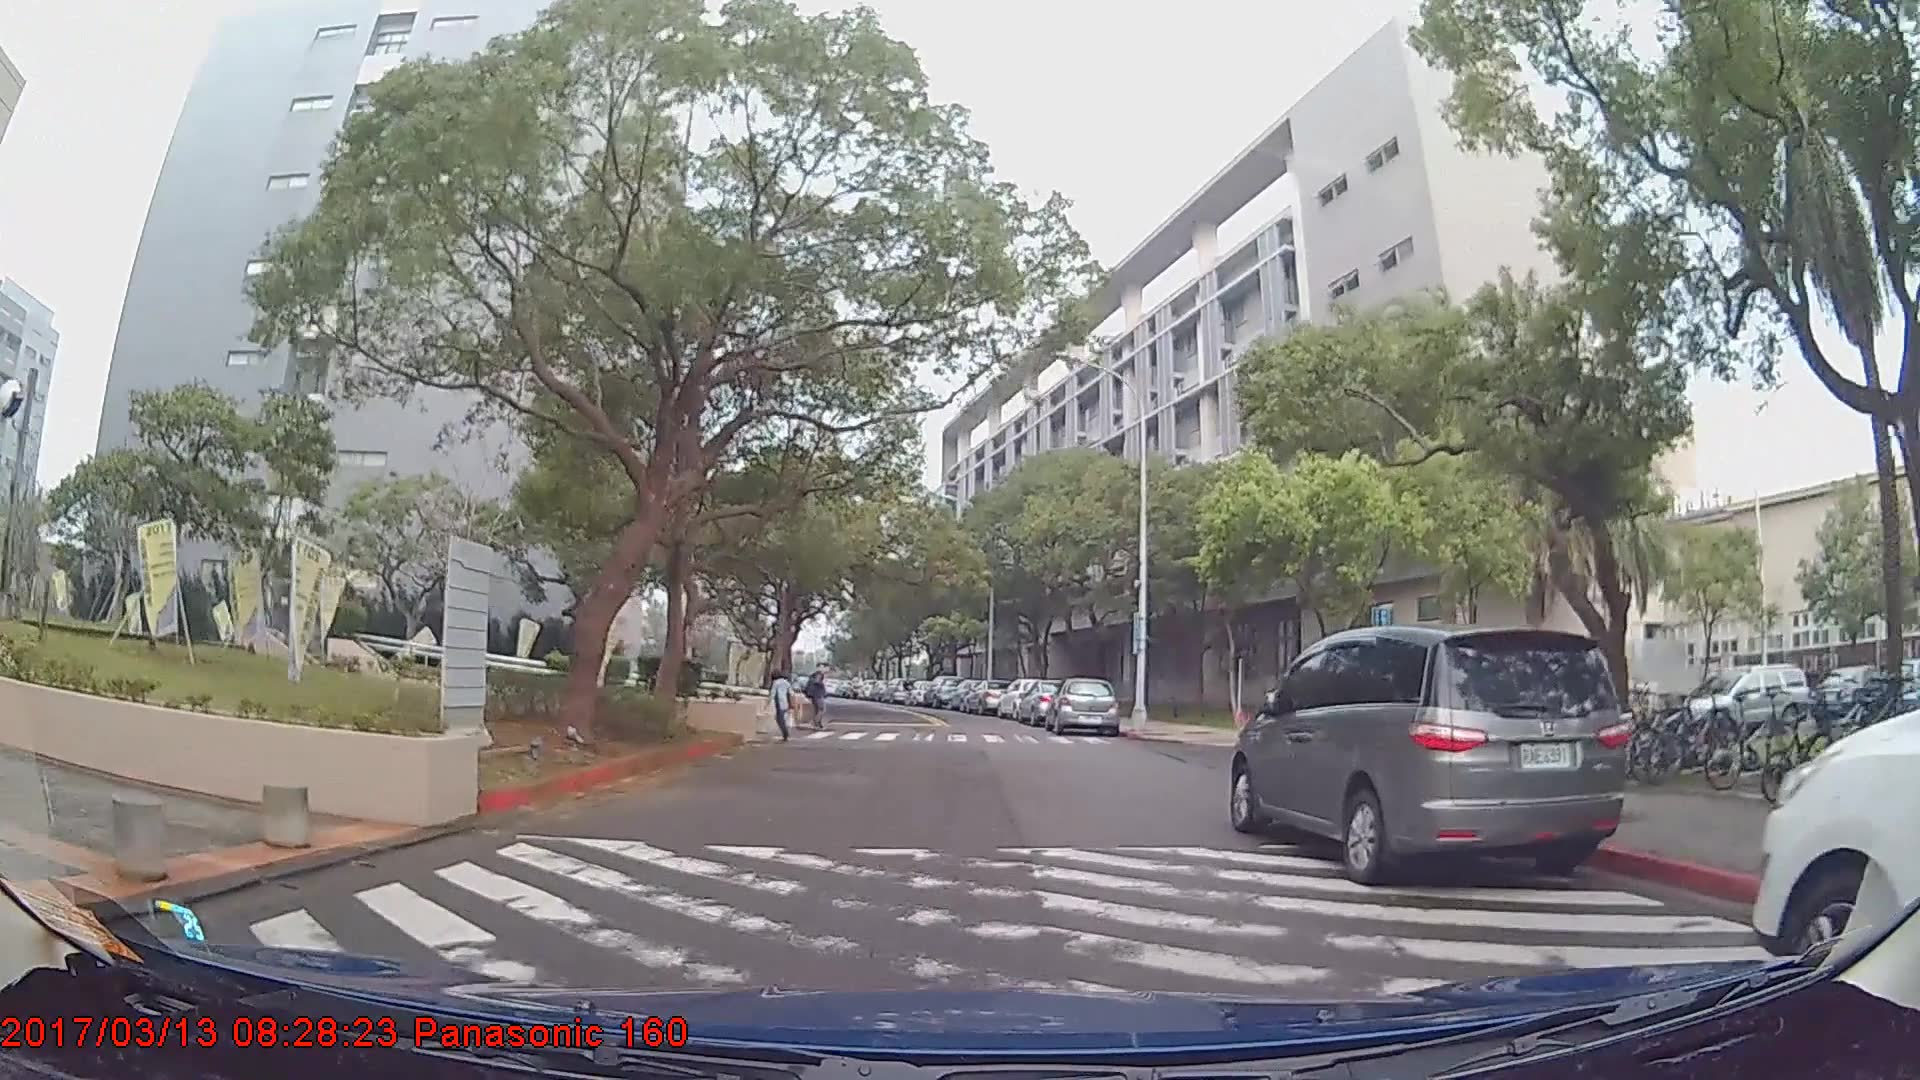pedestrian: (768, 673, 798, 745), (805, 661, 831, 735)
vehicle: (1230, 623, 1632, 890), (1677, 663, 1814, 744), (1808, 662, 1895, 722), (1050, 678, 1121, 738), (921, 674, 962, 708), (965, 682, 1008, 716)
